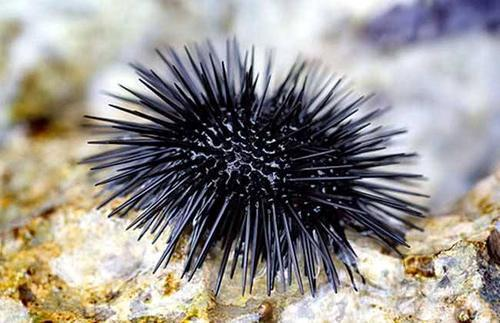urchin: (85, 31, 428, 296)
